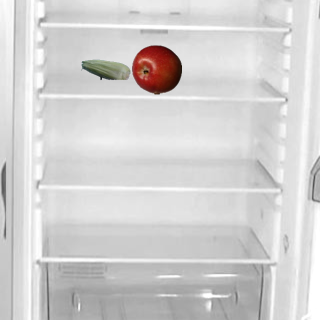Apple Braeburn: (131, 44, 181, 94)
Corn Husk: (80, 44, 130, 94)
